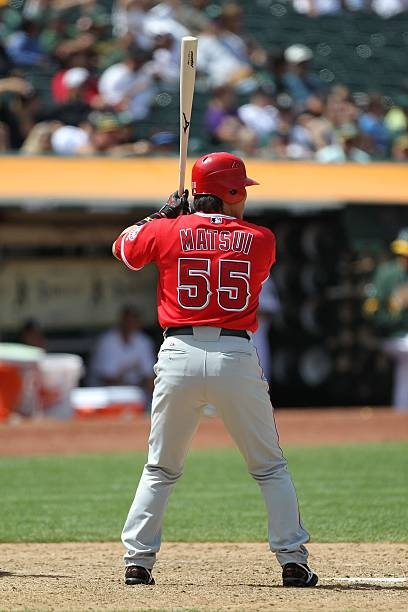bita: (169, 26, 194, 202)
